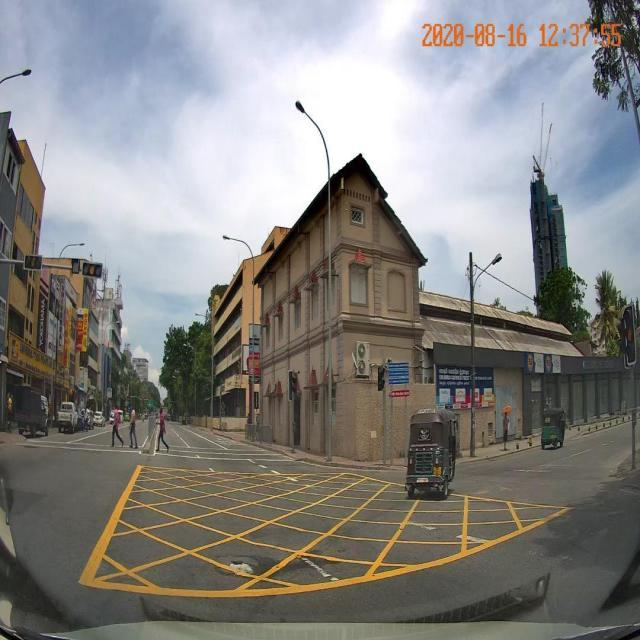Jeltaya razmetka: (75, 463, 581, 600)
